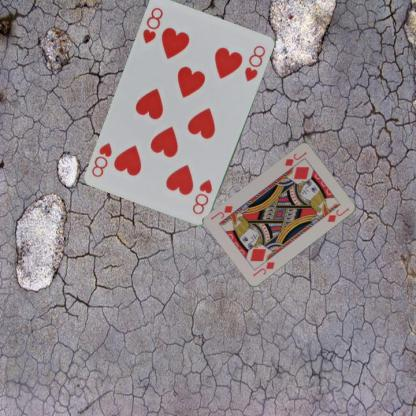8h: (140, 5, 165, 46), (189, 177, 214, 216)
Jd: (282, 149, 308, 167), (250, 259, 276, 277)
